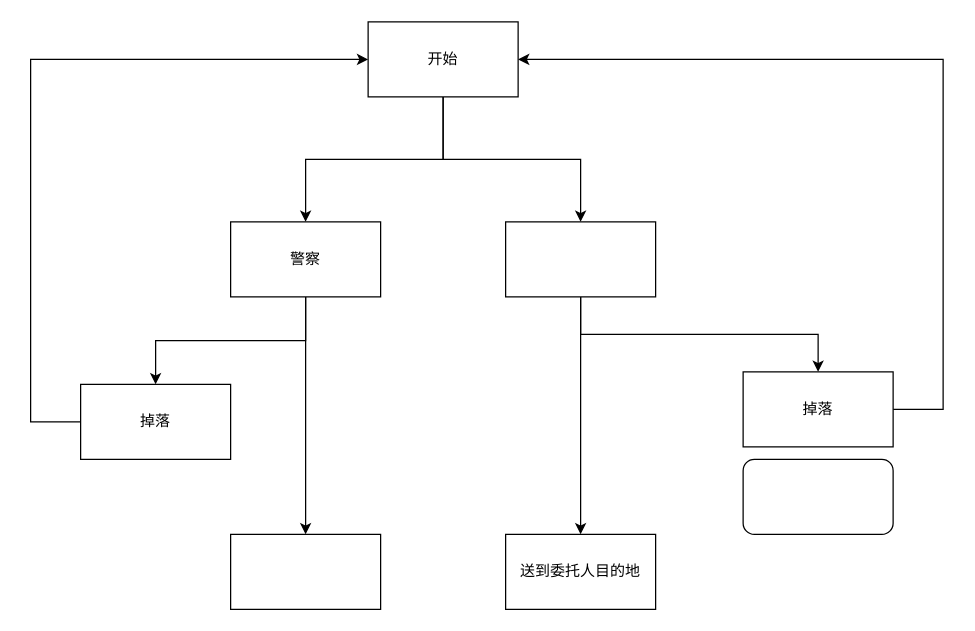
Some shapes in this 975 by 631 pixel diagram are drawn without their labels. The shapes that lost their labels are listed below. From the top down, each one's centre as x and y in pixels, then its label:
pixel 580 259: 小偷
pixel 817 496: 小偷背包增加一个思必达
pixel 305 571: 送回警察局
